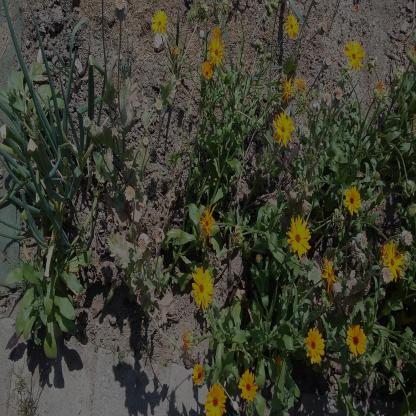marigold: (286, 214, 312, 260), (382, 236, 406, 284), (190, 265, 214, 311), (304, 325, 326, 368), (203, 380, 229, 415), (197, 202, 219, 242), (272, 110, 294, 147), (345, 321, 366, 359), (237, 368, 259, 403), (344, 36, 365, 72), (344, 183, 362, 216), (151, 9, 168, 35), (190, 358, 204, 388), (210, 38, 224, 67), (284, 14, 299, 38), (201, 60, 213, 79)
